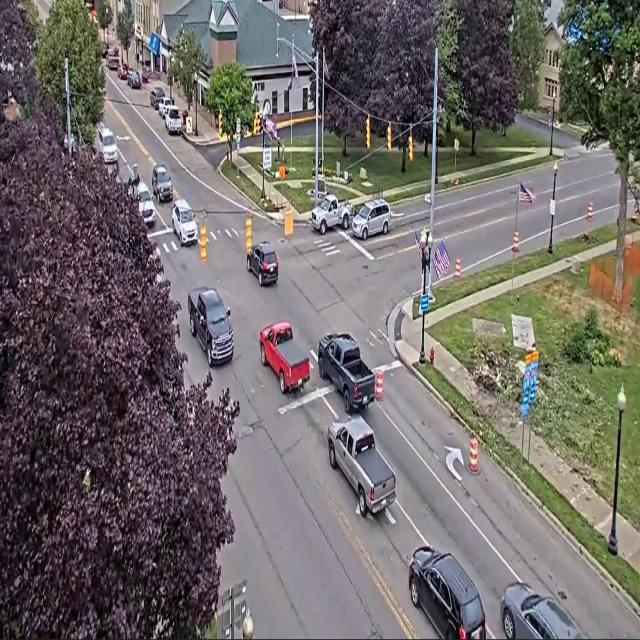car: (409, 546, 486, 639), (501, 583, 586, 639), (188, 288, 233, 367), (352, 200, 390, 240), (247, 242, 278, 286), (172, 200, 197, 246), (96, 124, 118, 163), (152, 165, 174, 202), (138, 181, 156, 226), (164, 105, 181, 134), (158, 96, 173, 119), (150, 87, 164, 110), (127, 71, 141, 88), (107, 53, 119, 70), (118, 63, 128, 79), (141, 68, 149, 83), (101, 41, 108, 58)
traffic signal: (245, 212, 252, 253), (200, 223, 206, 262), (253, 112, 261, 135), (408, 134, 413, 161), (366, 116, 370, 149), (387, 123, 391, 151), (218, 110, 222, 137)
truck: (328, 416, 395, 517), (318, 334, 374, 414), (260, 321, 310, 393), (311, 194, 352, 235)
